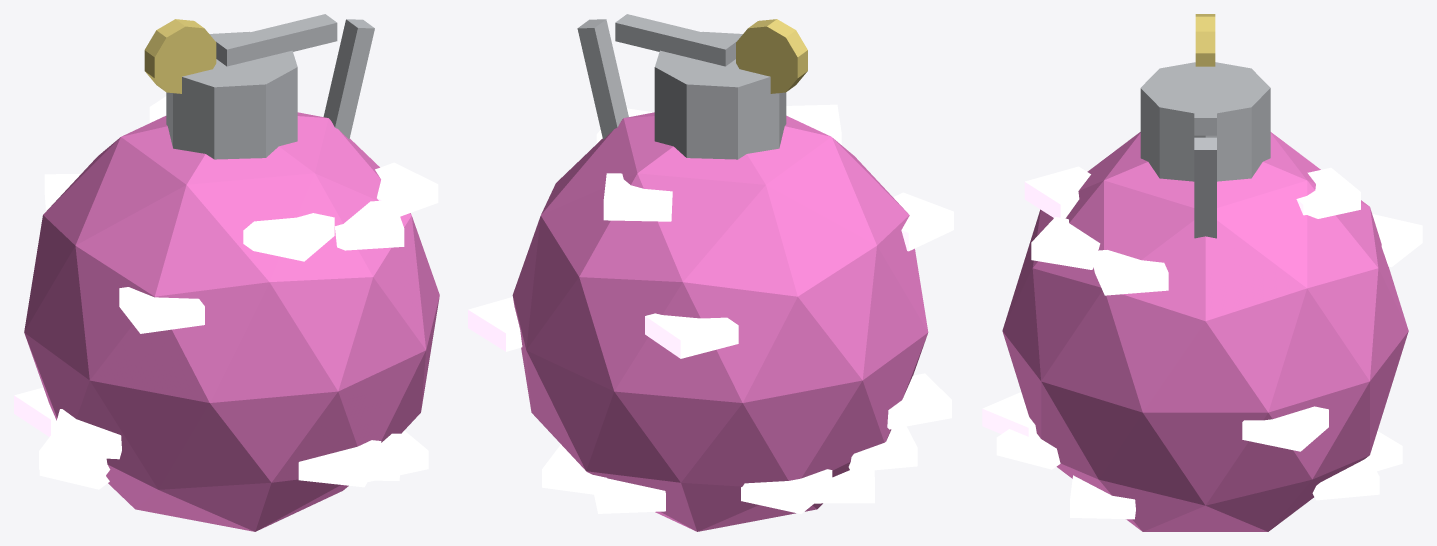
The model's file is boogie_bomb.glb.
3 views of the same model, side by side, from view 1: azimuth 30°, elevation 25°; view 2: azimuth 150°, elevation 25°; view 3: azimuth 270°, elevation 25° (orthographic). The views are drawn at different scales.
Visible parts, largest first — view 1: BoogieBomb; view 2: BoogieBomb; view 3: BoogieBomb.
Boxes of the visible parts, x1,y1,x2,y2 form: BoogieBomb: [14, 14, 439, 531]; BoogieBomb: [468, 14, 953, 531]; BoogieBomb: [982, 14, 1422, 531].
Size of the model in its own units: 0.2774 by 0.3283 by 0.2709.
